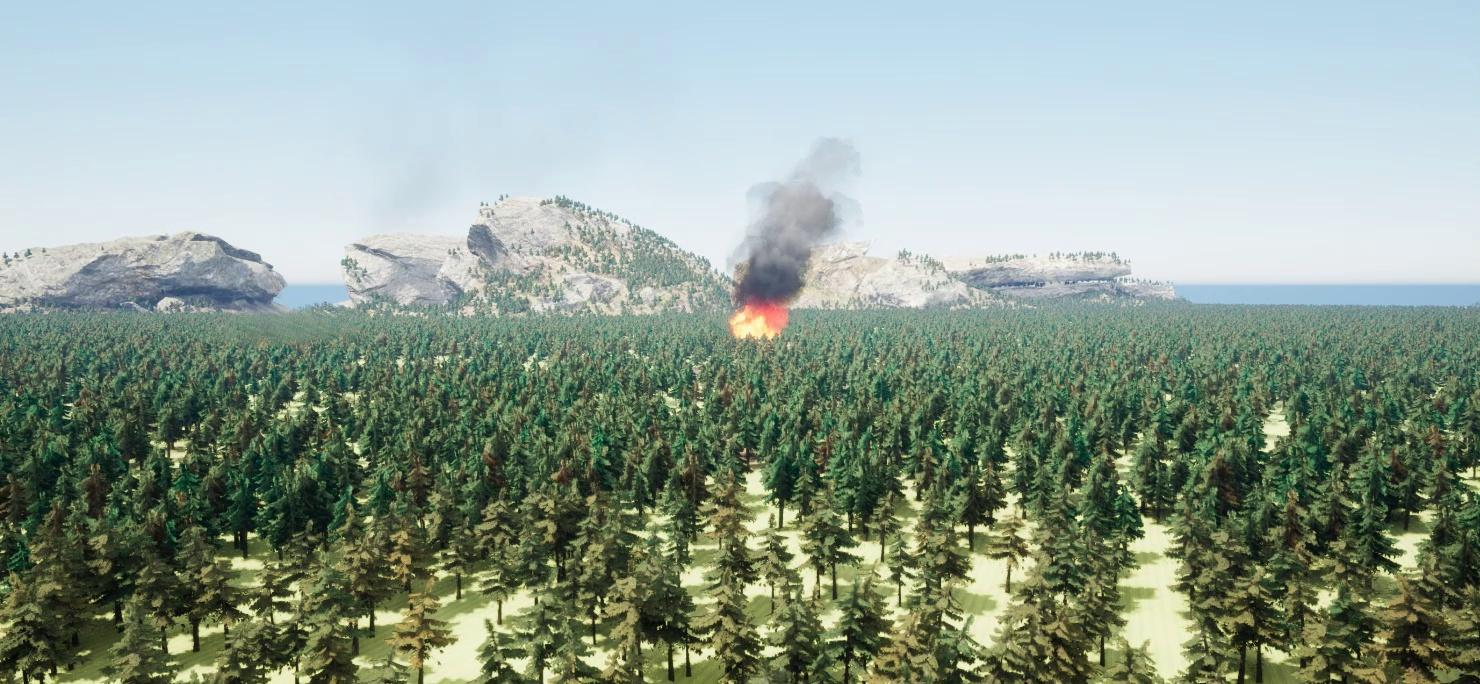fire: (724, 304, 790, 341)
smoke: (730, 136, 862, 300)
